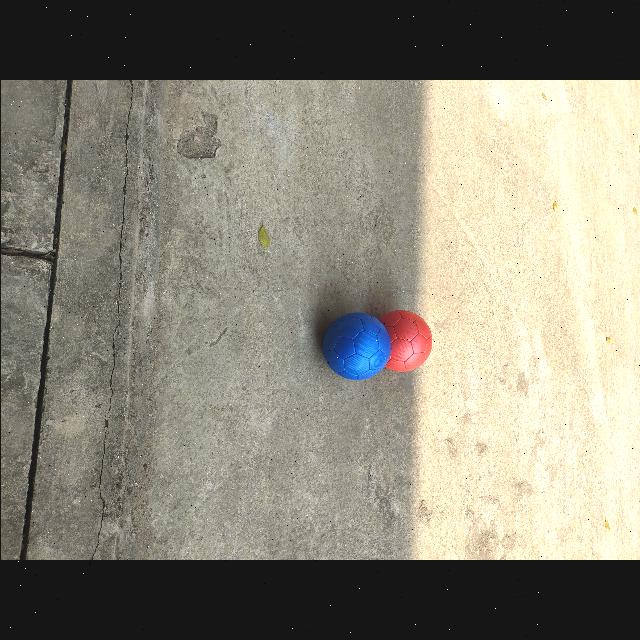B: (322, 313, 390, 381)
R: (379, 310, 431, 372)
